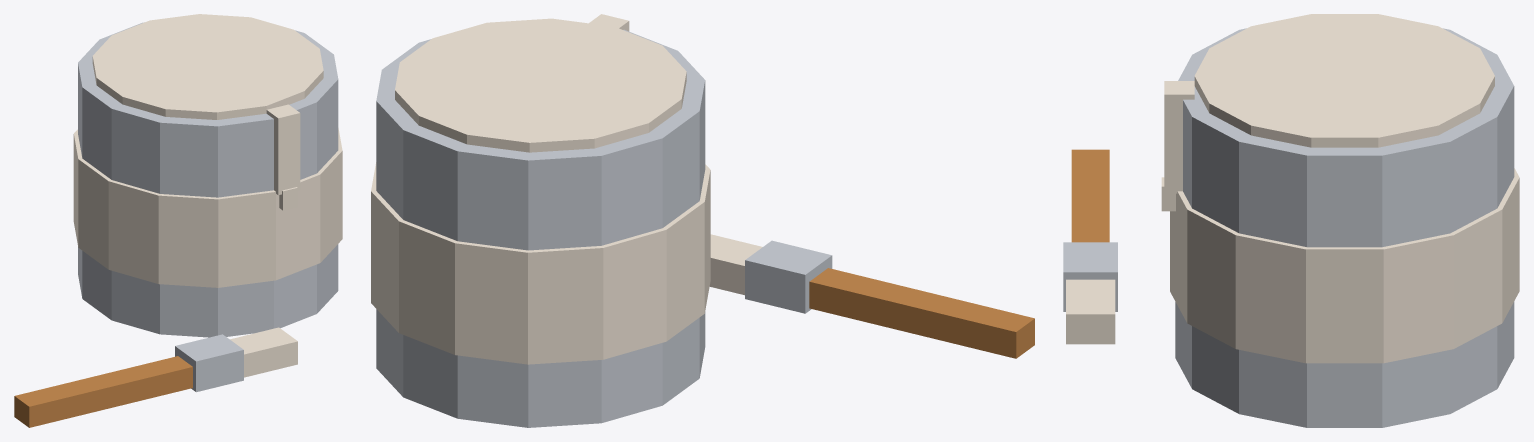
The model's file is CatCafe_Style_CocoaBrown.fbx.
3 views of the same model, side by side, from view 1: azimuth 30°, elevation 25°; view 2: azimuth 150°, elevation 25°; view 3: azimuth 270°, elevation 25° (orthographic). The views are drawn at different scales.
Visible parts, largest first — view 1: CatCafe_Style_CocoaBrown_Swatch, CatCafe_Style_CocoaBrown; view 2: CatCafe_Style_CocoaBrown_Swatch, CatCafe_Style_CocoaBrown; view 3: CatCafe_Style_CocoaBrown_Swatch, CatCafe_Style_CocoaBrown.
Boxes of the visible parts, x1,y1,x2,y2 form: CatCafe_Style_CocoaBrown_Swatch: (73, 14, 342, 377); CatCafe_Style_CocoaBrown: (14, 22, 338, 427); CatCafe_Style_CocoaBrown_Swatch: (371, 14, 762, 364); CatCafe_Style_CocoaBrown: (376, 29, 1034, 427); CatCafe_Style_CocoaBrown_Swatch: (1066, 14, 1519, 363); CatCafe_Style_CocoaBrown: (1063, 28, 1514, 427).
Size of the model in its own units: 2.17 by 1.14 by 1.67.
Materials: 1 (1 with a texture image).
